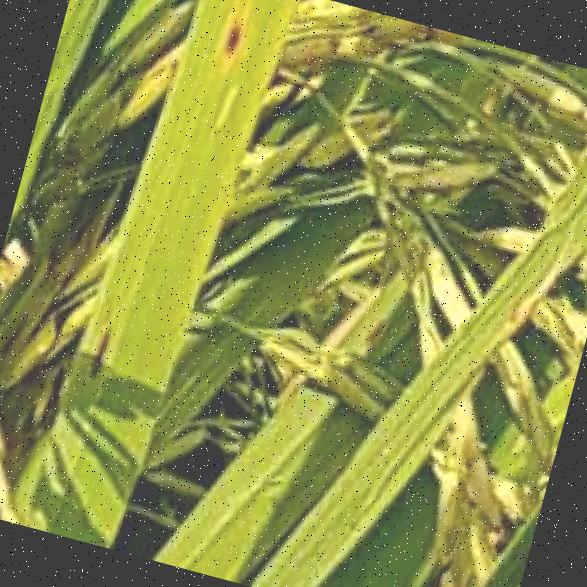Brown_Spot: (80, 307, 125, 387), (202, 3, 250, 76)
